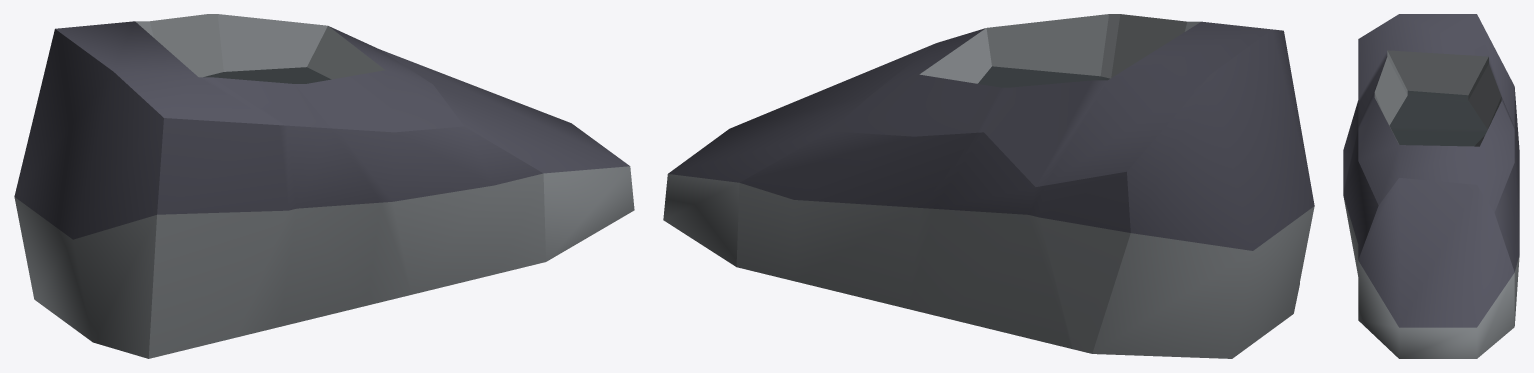
The model's file is shoe_black.fbx.
The picture shows the model from 3 angles, left to right: view 1: azimuth 30°, elevation 25°; view 2: azimuth 150°, elevation 25°; view 3: azimuth 270°, elevation 25°; orthographic projection. The views are drawn at different scales.
Visible parts, largest first — view 1: pCube26; view 2: pCube26; view 3: pCube26.
Boxes of the visible parts, bbox=[...] form: pCube26: bbox=[14, 14, 634, 358]; pCube26: bbox=[663, 14, 1314, 358]; pCube26: bbox=[1343, 14, 1519, 358].
Size of the model in its own units: 1.18 by 0.5354 by 0.4855.
